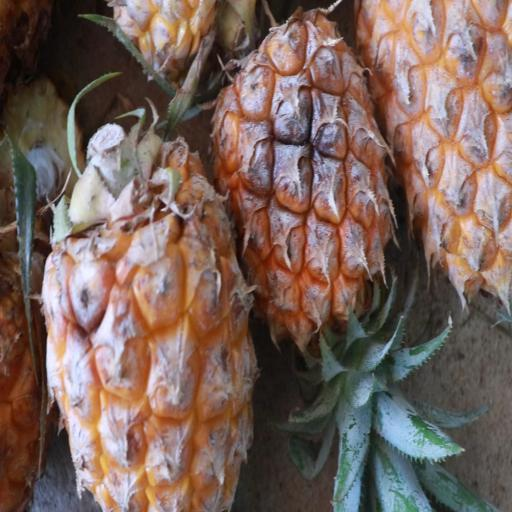Pineapple - v8 v1: (43, 121, 260, 512), (201, 5, 398, 390)
